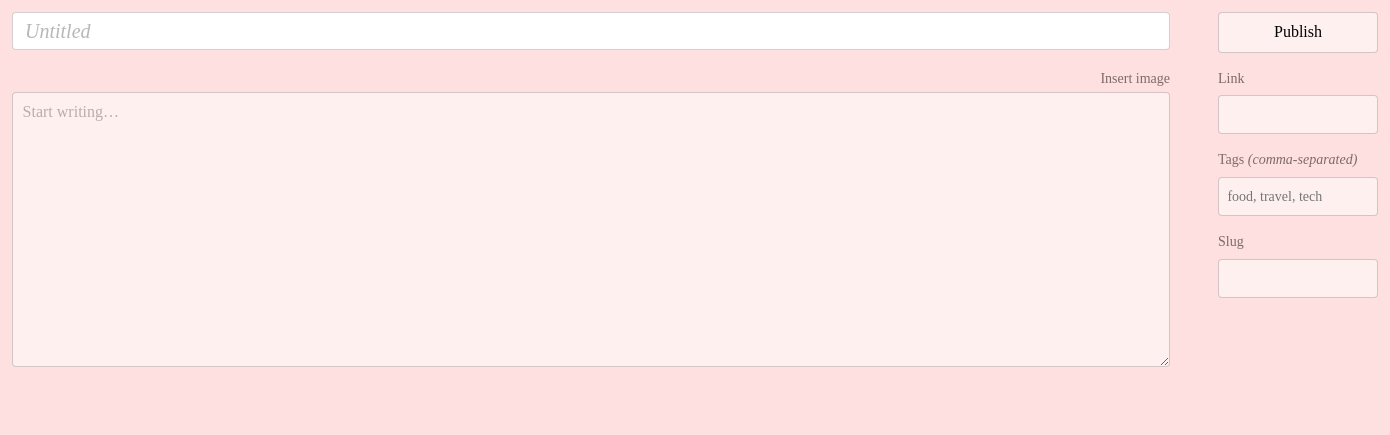
PostForm › blocks submit when a URL is provided without a title
Note: Inputs in order: title, url, tags. Set url + body but leave title empty.
Type "https://example.com" into the field labelled "Link" at (1298, 115), box x1=1218 y1=95 x2=1378 y2=134
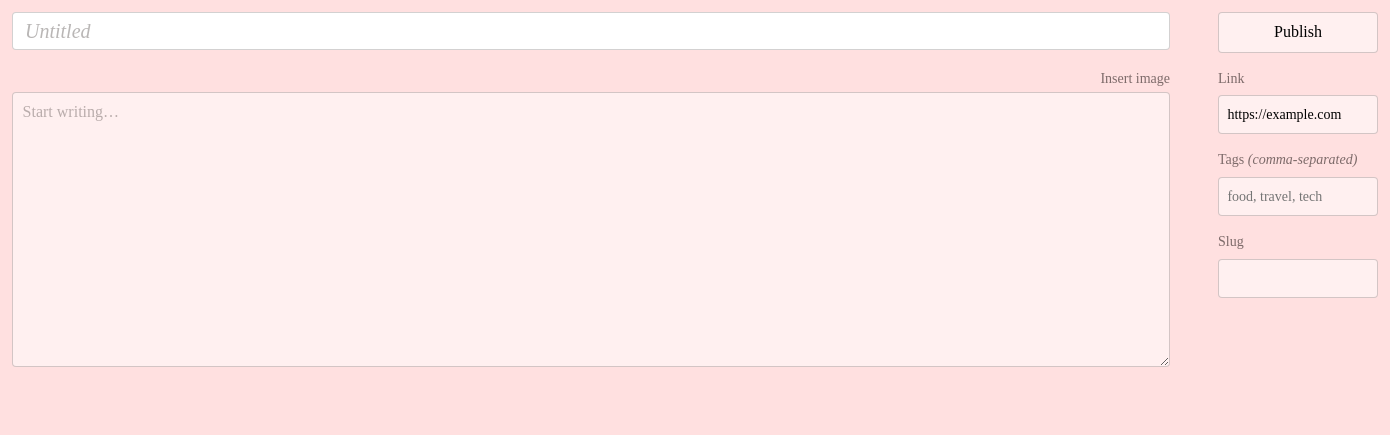
Type "commentary" into the text box with placeholder "Start writing…" at (591, 229), box x1=12 y1=92 x2=1170 y2=367
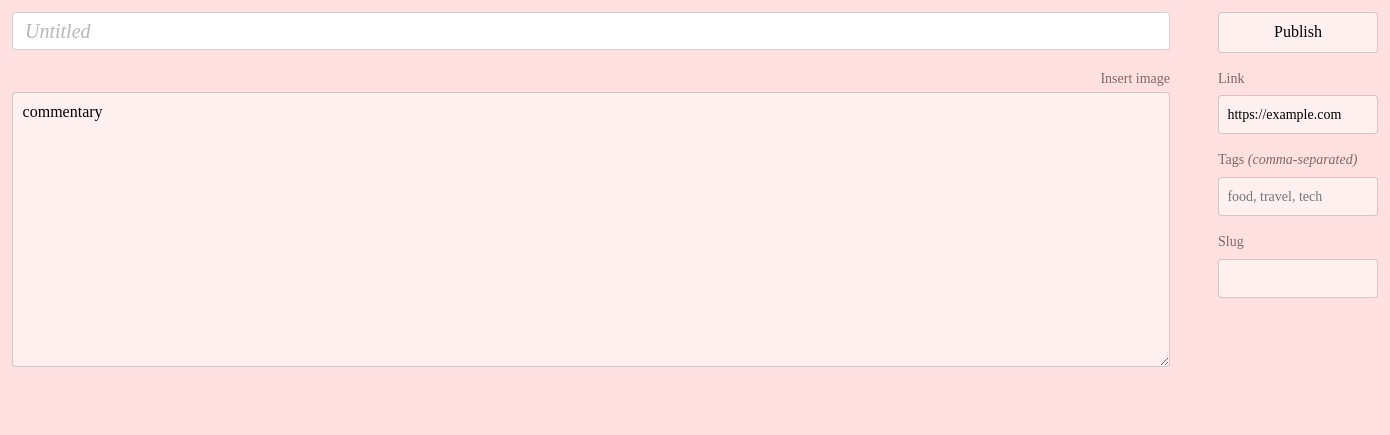
Click the button "Publish" at (1298, 32), box x1=1218 y1=12 x2=1378 y2=53
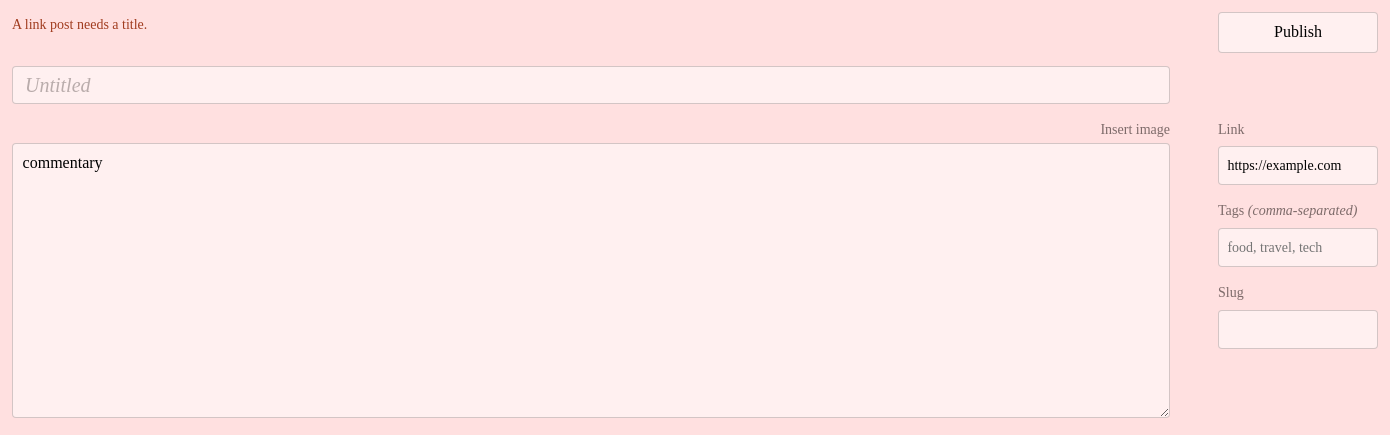
Expected: the text "A link post needs a title." is shown, x1=12 y1=17 x2=147 y2=32
